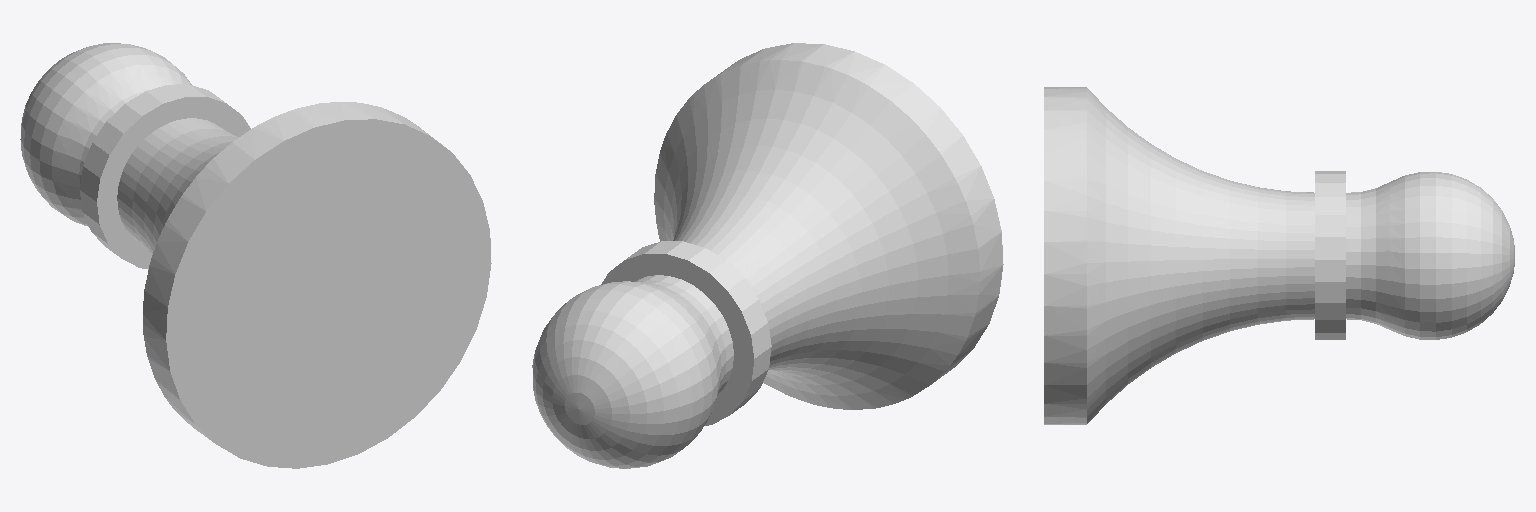
The robot description file, URDF, robot "pion":
<?xml version="1.0" encoding="utf-8"?>
<robot name="pion">
  <link name="base_link">
    <inertial>
      <origin xyz="5.55111512312578E-17 0.0106222958974551 -1.7055801215804E-14" rpy="0 0 0" />
      <mass value="0.00514941010722538" />
      <inertia
        ixx="5.74831681295525E-07" ixy="-3.26879966837887E-23" ixz="-2.97708148562947E-23"
        iyy="2.09083285069225E-07" iyz="2.66692949158579E-23"
        izz="5.74831681295525E-07" />
    </inertial>
    <visual>
      <origin xyz="0 0 0" rpy="0 0 0" />
      <geometry>
        <mesh filename="package://board_new/meshes/pion1.STL" />
      </geometry>
      <material name="">
        <color rgba="0.9 0.9 0.9 1" />
      </material>
    </visual>
    <collision>
      <origin xyz="0 0 0" rpy="0 0 0" />
      <geometry>
        <mesh filename="package://board_new/meshes/pion1.STL" />
      </geometry>
    </collision>
  </link>
  <gazebo reference="base_link">
    <mu1>0.5</mu1>
    <mu2>0.5</mu2>
    <material>Gazebo/Grey</material>
  </gazebo>
</robot>

--- What the picture shows (computed from the rendered views, not written in the file) ---
The picture shows the robot from 3 angles, left to right: view 1: azimuth 30°, elevation 25°; view 2: azimuth 150°, elevation 25°; view 3: azimuth 270°, elevation 25°; orthographic projection.
Model pion with 1 links and 0 joints (none), rooted at base_link, posed all joints at 0.
Links seen in each view (by area): view 1: base_link; view 2: base_link; view 3: base_link.
Boxes of the visible links, x1,y1,x2,y2 form: base_link: (20, 43, 491, 468); base_link: (532, 43, 1003, 468); base_link: (1044, 87, 1514, 424).
Size in the robot's own frame: 0.024 by 0.0334 by 0.024 metres.
Meshes: 1 distinct files referenced, 1 mesh visuals loaded (1 binary STL).